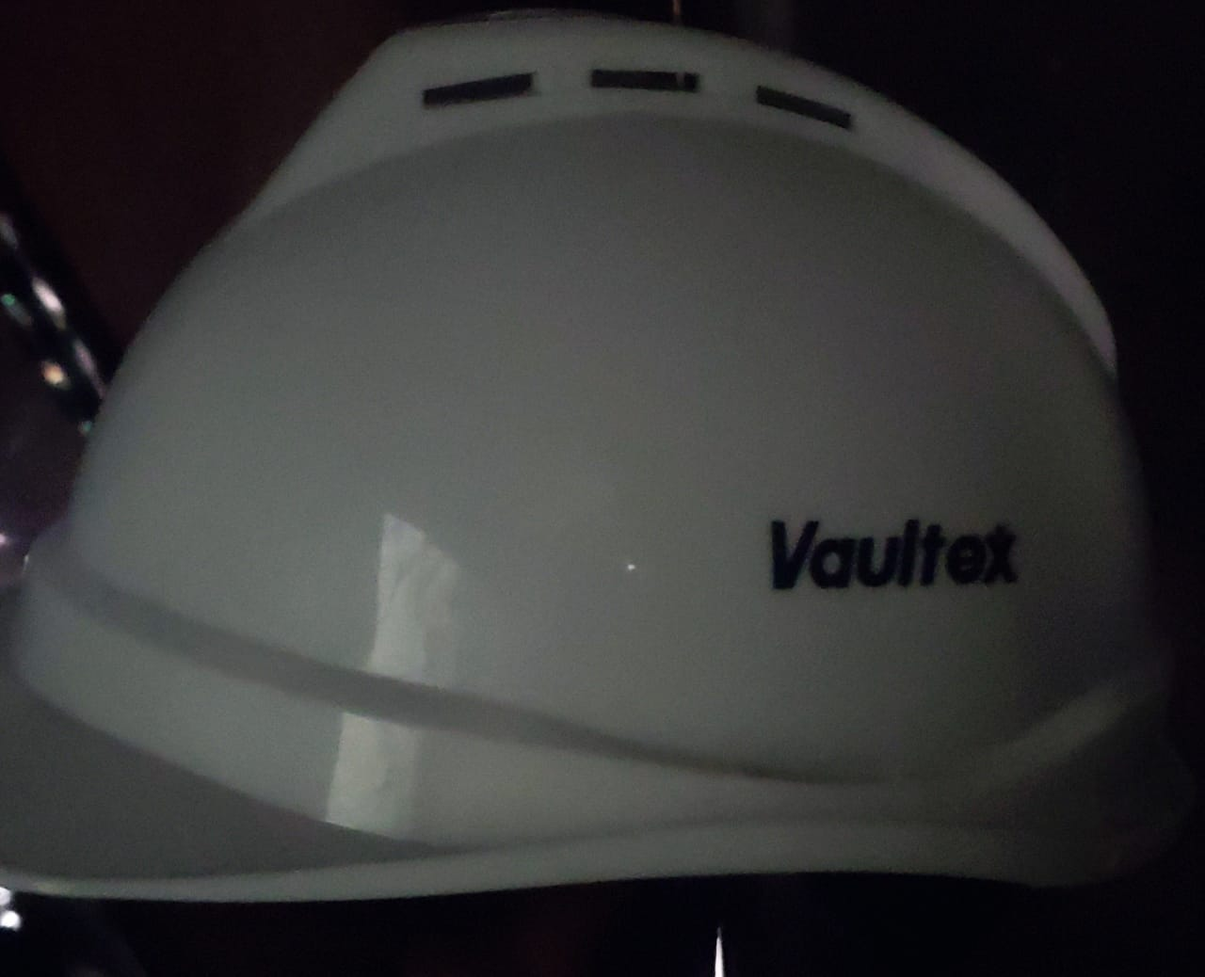helment: (7, 24, 1205, 906)
